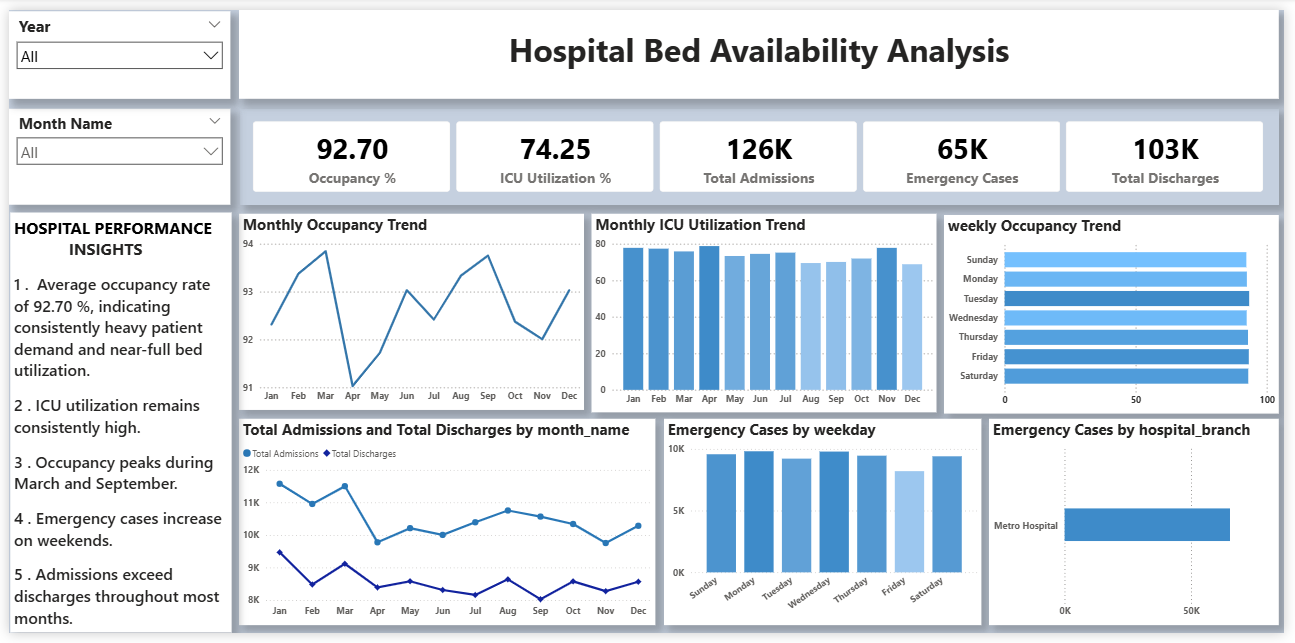

Layout of this report page (visuals, bound fields, positions):
{"tool":"powerbi","page":{"name":"Page 1","canvas":[1700,830],"ordinal":0},"visuals":[{"type":"cardVisual","fields":{"Data":["feature_engineered_dataset.Occupancy %","feature_engineered_dataset.ICU Utilization %","feature_engineered_dataset.Total Admissions","feature_engineered_dataset.Emergency Cases","feature_engineered_dataset.Total Discharges"]},"box":[308.3,131.7,1385,128.3],"z":0},{"type":"lineChart","title":"Monthly Occupancy Trend","fields":{"Y":["feature_engineered_dataset.Occupancy %"],"Category":["feature_engineered_dataset.month_name"]},"box":[306.7,271.7,460,261.7],"z":1000},{"type":"clusteredColumnChart","title":"Monthly ICU Utilization Trend","fields":{"Category":["feature_engineered_dataset.month_name"],"Y":["feature_engineered_dataset.ICU Utilization %"]},"box":[776.7,271.7,460,265],"z":2000},{"type":"lineChart","fields":{"Category":["feature_engineered_dataset.month_name"],"Y":["feature_engineered_dataset.Total Admissions","feature_engineered_dataset.Total Discharges"]},"box":[306.7,545,555,275],"z":3000},{"type":"clusteredBarChart","title":"weekly Occupancy Trend","fields":{"Category":["feature_engineered_dataset.weekday"],"Y":["feature_engineered_dataset.Occupancy %"]},"box":[1245.9,273.3,446.7,265],"z":4000},{"type":"lineClusteredColumnComboChart","fields":{"Category":["feature_engineered_dataset.weekday"],"Y":["feature_engineered_dataset.Emergency Cases"]},"box":[873.3,545,423.3,275],"z":5000},{"type":"barChart","fields":{"Y":["feature_engineered_dataset.Emergency Cases"],"Category":["feature_engineered_dataset.hospital_branch"]},"box":[1306.7,545,386.7,275],"z":6000},{"type":"slicer","fields":{"Values":["feature_engineered_dataset.month_name"]},"box":[0,131.7,295,128.3],"z":7000},{"type":"slicer","fields":{"Values":["feature_engineered_dataset.year"]},"box":[0,1.7,295,116.7],"z":8000},{"type":"textbox","box":[1.7,270,295,560],"z":9000},{"type":"textbox","box":[306.7,0,1386.7,118.3],"z":10000}]}

Visuals, with their boxes in screenshot pixels (x1, y1, x2, y2), scaled from the page's 1700x830 canvas onto the 1295x643 screenshot:
cardVisual - feature_engineered_dataset.Occupancy % x feature_engineered_dataset.ICU Utilization %: pyautogui.locateOnScreen(235, 102, 1290, 201)
"Monthly Occupancy Trend" lineChart: pyautogui.locateOnScreen(234, 210, 584, 413)
"Monthly ICU Utilization Trend" clusteredColumnChart: pyautogui.locateOnScreen(592, 210, 942, 416)
lineChart - feature_engineered_dataset.month_name x feature_engineered_dataset.Total Admissions: pyautogui.locateOnScreen(234, 422, 656, 635)
"weekly Occupancy Trend" clusteredBarChart: pyautogui.locateOnScreen(949, 212, 1289, 417)
lineClusteredColumnComboChart - feature_engineered_dataset.weekday x feature_engineered_dataset.Emergency Cases: pyautogui.locateOnScreen(665, 422, 988, 635)
barChart - feature_engineered_dataset.Emergency Cases x feature_engineered_dataset.hospital_branch: pyautogui.locateOnScreen(995, 422, 1290, 635)
slicer - feature_engineered_dataset.month_name: pyautogui.locateOnScreen(0, 102, 225, 201)
slicer - feature_engineered_dataset.year: pyautogui.locateOnScreen(0, 1, 225, 92)
textbox: pyautogui.locateOnScreen(1, 209, 226, 642)
textbox: pyautogui.locateOnScreen(234, 0, 1290, 92)
